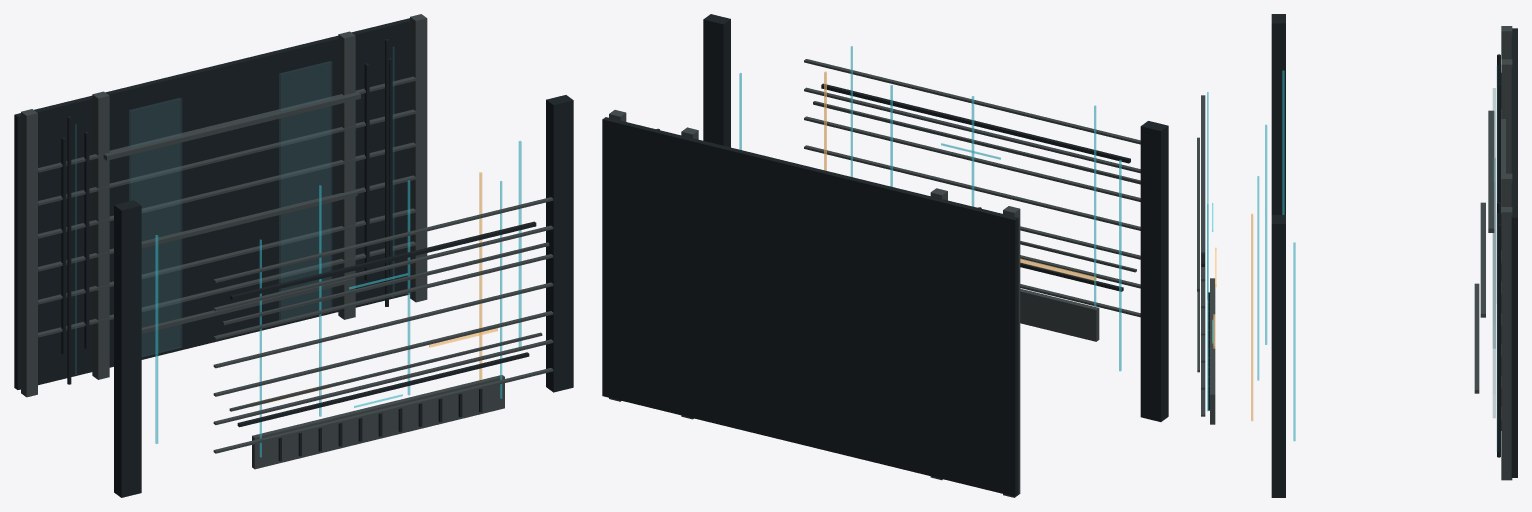
File: hp_service_elevator_ascent_shaft_fx.glb
The picture shows the model from 3 angles, left to right: view 1: azimuth 30°, elevation 25°; view 2: azimuth 150°, elevation 25°; view 3: azimuth 270°, elevation 25°; orthographic projection. The views are drawn at different scales.
Parts seen in each view (by area): view 1: service_elevator_ascent_shaft_static_back_depth_wall, service_elevator_ascent_shaft_static_smoked_depth_glass_righ, service_elevator_ascent_shaft_static_smoked_depth_glass_left, service_elevator_ascent_shaft_static_back_horizontal_shadow_ (×6), service_elevator_ascent_shaft_static_near_black_rib_left, service_elevator_ascent_shaft_static_near_black_rib_right, service_elevator_ascent_shaft_static_lower_perforated_grille, service_elevator_ascent_shaft_static_depth_frame_-2.72, service_elevator_ascent_shaft_static_depth_frame_-1.72, service_elevator_ascent_shaft_static_depth_frame_+2.72, service_elevator_ascent_shaft_static_side_panel_shadow_slot_ (×4), service_elevator_ascent_shaft_static_depth_frame_+1.72 (+20 smaller); view 2: service_elevator_ascent_shaft_static_back_depth_wall, service_elevator_ascent_shaft_static_near_black_rib_left, service_elevator_ascent_shaft_static_near_black_rib_right, service_elevator_ascent_shaft_static_lower_perforated_grille, service_elevator_ascent_shaft_moving_crossbeam_near_high, service_elevator_ascent_shaft_static_close_metal_louver_06, service_elevator_ascent_shaft_static_close_metal_louver_03, service_elevator_ascent_shaft_static_close_metal_louver_05, service_elevator_ascent_shaft_static_close_metal_louver_04, service_elevator_ascent_shaft_moving_shadow_louver_high, service_elevator_ascent_shaft_static_depth_frame_-2.72, service_elevator_ascent_shaft_moving_cyan_column_left; view 3: service_elevator_ascent_shaft_static_near_black_rib_right, service_elevator_ascent_shaft_static_back_depth_wall, service_elevator_ascent_shaft_static_depth_frame_+2.72, service_elevator_ascent_shaft_static_near_black_rib_left, service_elevator_ascent_shaft_static_depth_frame_-1.72, service_elevator_ascent_shaft_moving_crossbeam_high, service_elevator_ascent_shaft_static_lower_perforated_grille, service_elevator_ascent_shaft_static_cable_bundle_+2.22, service_elevator_ascent_shaft_static_close_metal_louver_06, service_elevator_ascent_shaft_static_smoked_depth_glass_righ, service_elevator_ascent_shaft_moving_crossbeam_mid, service_elevator_ascent_shaft_moving_crossbeam_low (+13 smaller).
Boxes of the visible parts, box(x1,y1,x2,y2) form: service_elevator_ascent_shaft_static_back_depth_wall: box(14, 18, 410, 389); service_elevator_ascent_shaft_static_smoked_depth_glass_righ: box(279, 61, 331, 319); service_elevator_ascent_shaft_static_smoked_depth_glass_left: box(129, 98, 181, 356); service_elevator_ascent_shaft_static_back_horizontal_shadow_ (×6): box(38, 76, 415, 337); service_elevator_ascent_shaft_static_near_black_rib_left: box(114, 200, 141, 497); service_elevator_ascent_shaft_static_near_black_rib_right: box(546, 95, 573, 392); service_elevator_ascent_shaft_static_lower_perforated_grille: box(252, 375, 504, 469); service_elevator_ascent_shaft_static_depth_frame_-2.72: box(21, 109, 37, 397); service_elevator_ascent_shaft_static_depth_frame_-1.72: box(92, 91, 109, 379); service_elevator_ascent_shaft_static_depth_frame_+2.72: box(410, 14, 427, 302); service_elevator_ascent_shaft_static_side_panel_shadow_slot_ (×4): box(61, 57, 392, 354); service_elevator_ascent_shaft_static_depth_frame_+1.72: box(338, 31, 355, 319); service_elevator_ascent_shaft_static_back_depth_wall: box(602, 117, 1018, 496); service_elevator_ascent_shaft_static_near_black_rib_left: box(1140, 121, 1168, 421); service_elevator_ascent_shaft_static_near_black_rib_right: box(703, 14, 730, 147); service_elevator_ascent_shaft_static_lower_perforated_grille: box(1020, 288, 1099, 341); service_elevator_ascent_shaft_moving_crossbeam_near_high: box(821, 83, 1130, 163); service_elevator_ascent_shaft_static_close_metal_louver_06: box(804, 59, 1140, 144); service_elevator_ascent_shaft_static_close_metal_louver_03: box(804, 145, 1140, 230); service_elevator_ascent_shaft_static_close_metal_louver_05: box(804, 87, 1140, 173); service_elevator_ascent_shaft_static_close_metal_louver_04: box(804, 116, 1140, 201); service_elevator_ascent_shaft_moving_shadow_louver_high: box(813, 101, 1140, 184); service_elevator_ascent_shaft_static_depth_frame_-2.72: box(1003, 206, 1020, 497); service_elevator_ascent_shaft_moving_cyan_column_left: box(1119, 159, 1121, 371); service_elevator_ascent_shaft_static_near_black_rib_right: box(1271, 215, 1285, 497); service_elevator_ascent_shaft_static_back_depth_wall: box(1511, 28, 1517, 477); service_elevator_ascent_shaft_static_depth_frame_+2.72: box(1501, 207, 1512, 480); service_elevator_ascent_shaft_static_near_black_rib_left: box(1271, 14, 1285, 214); service_elevator_ascent_shaft_static_depth_frame_-1.72: box(1501, 59, 1512, 173); service_elevator_ascent_shaft_moving_crossbeam_high: box(1488, 110, 1494, 232); service_elevator_ascent_shaft_static_lower_perforated_grille: box(1210, 278, 1215, 424); service_elevator_ascent_shaft_static_cable_bundle_+2.22: box(1497, 202, 1500, 457); service_elevator_ascent_shaft_static_close_metal_louver_06: box(1201, 95, 1205, 253); service_elevator_ascent_shaft_static_smoked_depth_glass_righ: box(1493, 158, 1495, 417); service_elevator_ascent_shaft_moving_crossbeam_mid: box(1480, 202, 1485, 317); service_elevator_ascent_shaft_moving_crossbeam_low: box(1474, 283, 1479, 393).
Size of the model in its own units: 6.32 by 3.84 by 4.08.
